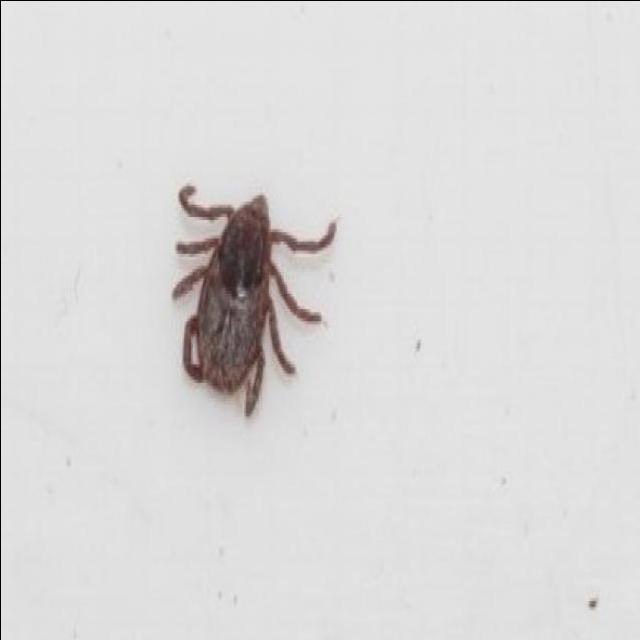Rhipicephalus Sanguineus-F: (170, 182, 339, 422)
